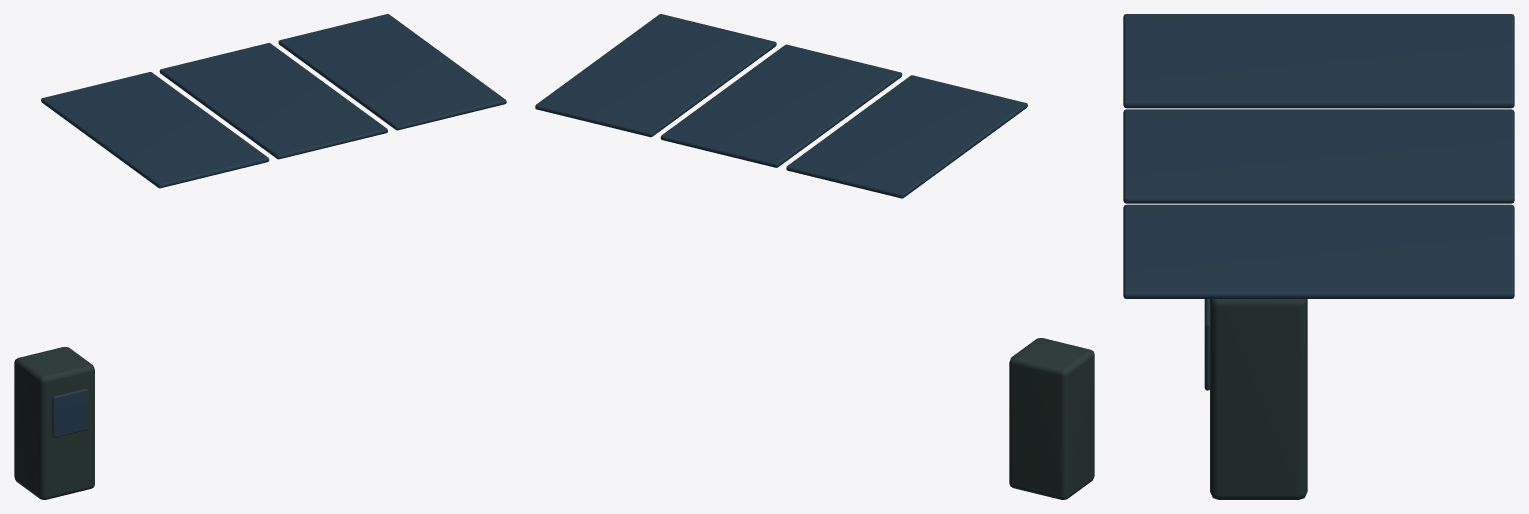
The model's file is solar_tech.glb.
3 renders of one model, left to right at view 1: azimuth 30°, elevation 25°; view 2: azimuth 150°, elevation 25°; view 3: azimuth 270°, elevation 25°, orthographic. The views are drawn at different scales.
Parts seen in each view (by area): view 1: solar_tech_Monokrystalické fotovoltaické články, solar_tech_Antracitový falcovaný plech.002; view 2: solar_tech_Monokrystalické fotovoltaické články, solar_tech_Antracitový falcovaný plech.002; view 3: solar_tech_Monokrystalické fotovoltaické články, solar_tech_Antracitový falcovaný plech.002.
Boxes of the visible parts, <box> form: solar_tech_Monokrystalické fotovoltaické články: <box>41,14,506,437</box>; solar_tech_Antracitový falcovaný plech.002: <box>14,347,94,499</box>; solar_tech_Monokrystalické fotovoltaické články: <box>535,14,1027,198</box>; solar_tech_Antracitový falcovaný plech.002: <box>1009,338,1094,499</box>; solar_tech_Monokrystalické fotovoltaické články: <box>1123,14,1514,390</box>; solar_tech_Antracitový falcovaný plech.002: <box>1210,299,1307,499</box>.
Bounding box in the file's own units: 5.55 × 3.81 × 2.6.
